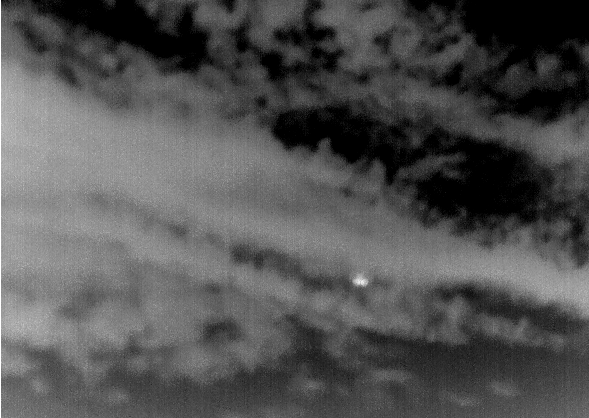dim target: (352, 271, 371, 288)
